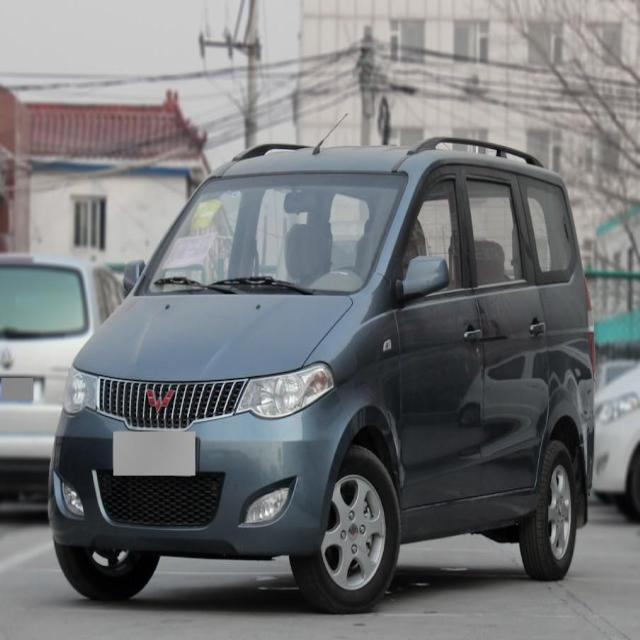door: (463, 170, 546, 496)
front_bumper: (50, 404, 329, 556)
front_glass: (141, 163, 405, 295)
front_left_side_door: (394, 165, 486, 517)
front_left_side_light: (234, 360, 337, 421)
front_left_side_mirror: (393, 252, 451, 301)
front_right_side_light: (61, 359, 103, 428)
wheel: (292, 441, 400, 609), (521, 441, 576, 578)
